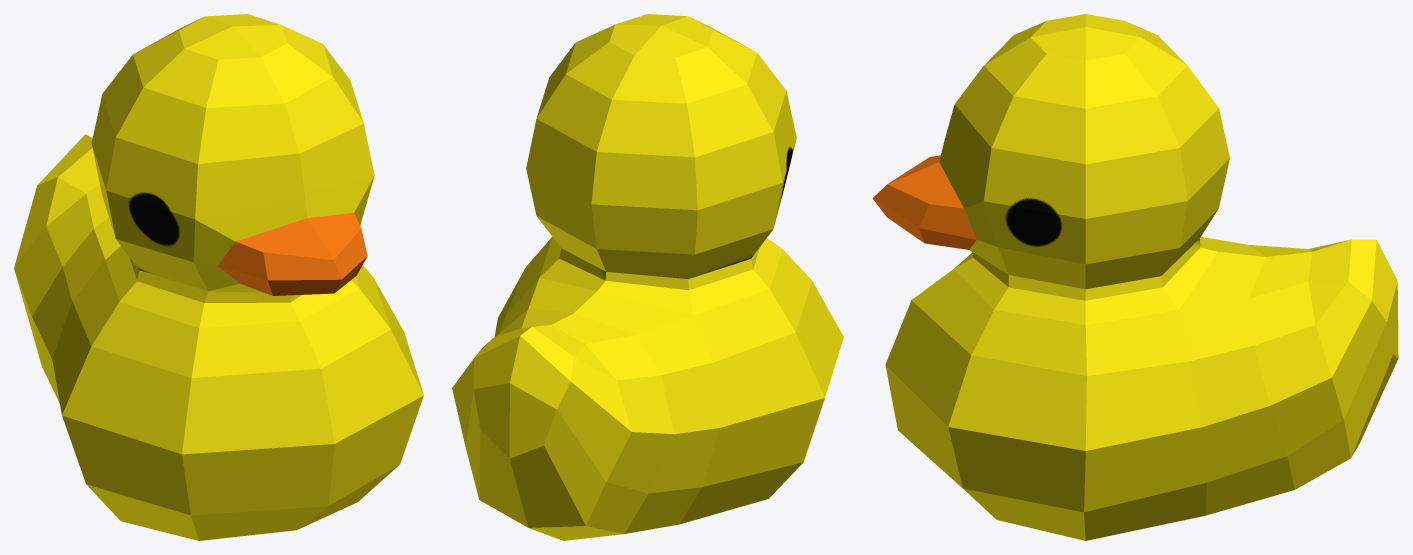
Rendered from Duck_Texture 1.fbx.
3 views of the same model, side by side, from view 1: azimuth 30°, elevation 25°; view 2: azimuth 150°, elevation 25°; view 3: azimuth 270°, elevation 25° (orthographic). The views are drawn at different scales.
Visible parts, largest first — view 1: Duck; view 2: Duck; view 3: Duck.
Boxes of the visible parts, x1,y1,x2,y2 form: Duck: (14, 14, 423, 540); Duck: (452, 14, 843, 540); Duck: (872, 14, 1398, 540).
Size of the model in its own units: 365 by 489 by 494.
